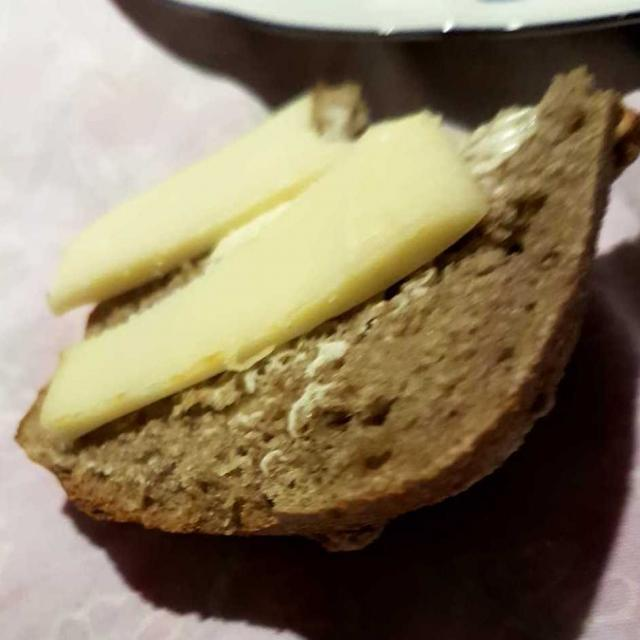bread: (29, 85, 616, 525)
butter: (170, 96, 557, 437)
cheese: (37, 85, 496, 450)
